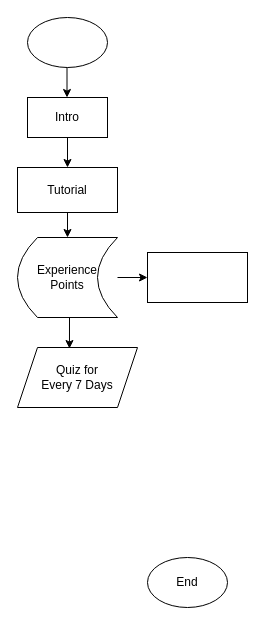
This 265x625 diagram has some shape labels left out. Each missing label, with the centre of its shape:
"Start" belongs at (67,42).
"Unlock Crops and Ingredients" belongs at (197,277).
